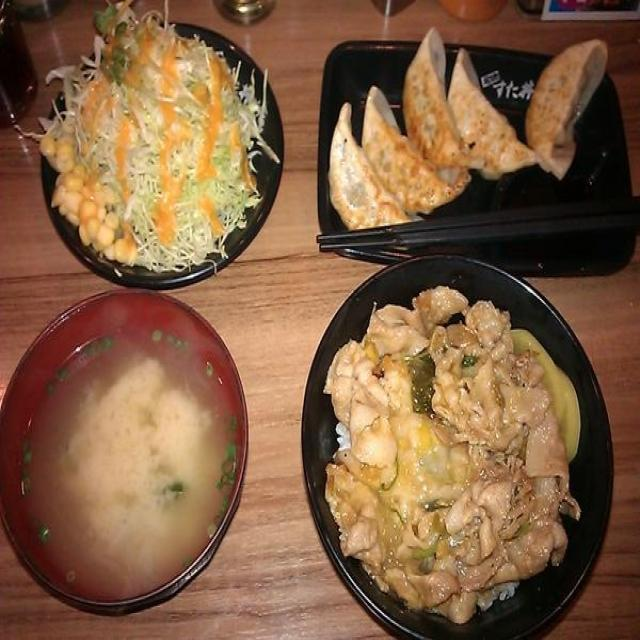Green Salad: (24, 12, 272, 277)
